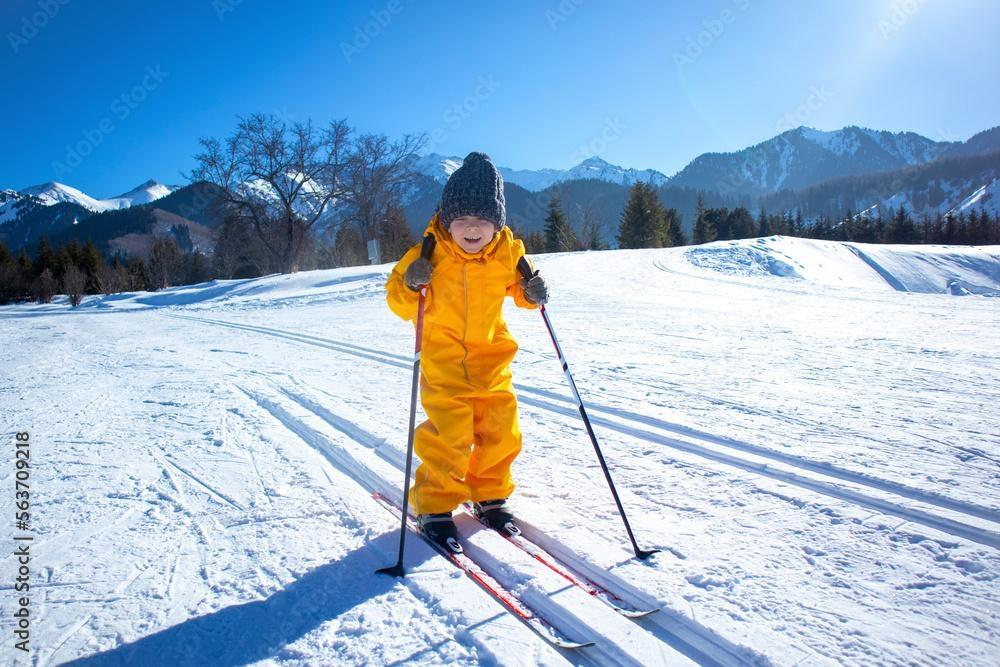Skis: (368, 482, 648, 650)
